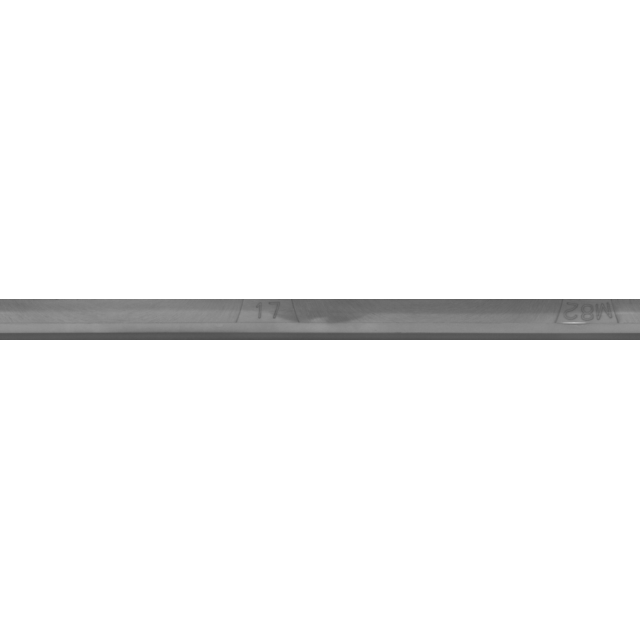mohao: (498, 270, 640, 370)
xuehao: (175, 270, 375, 370)
